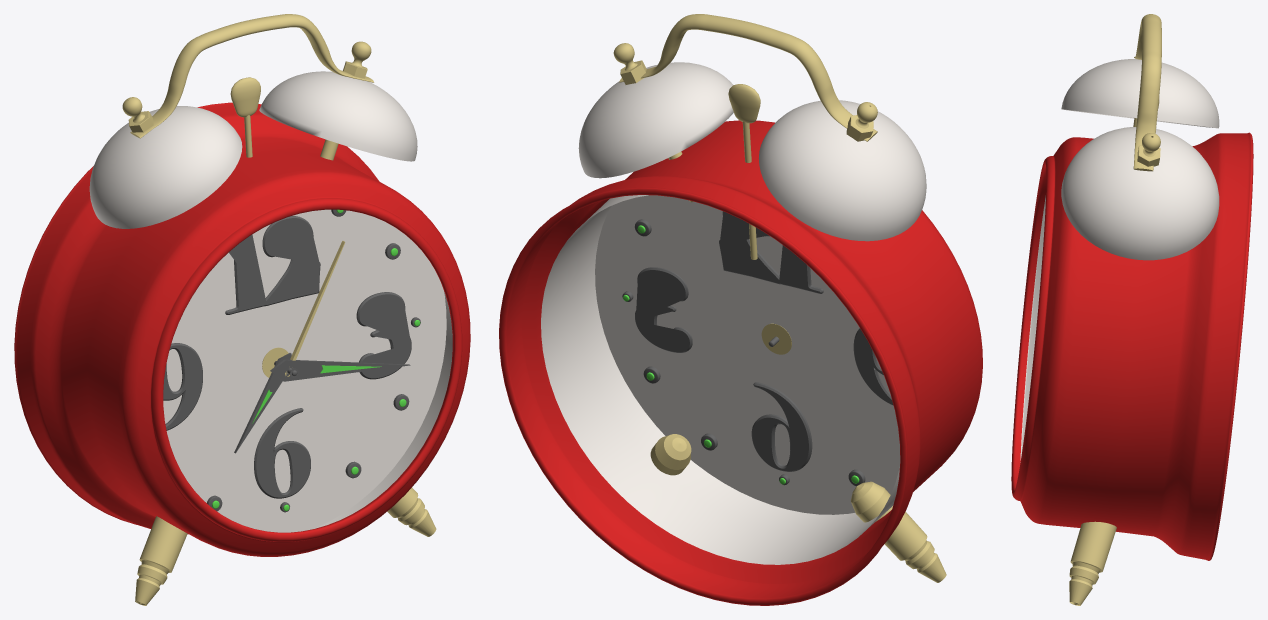
The model's file is AlarmClockUni.fbx.
3 views of the same model, side by side, from view 1: azimuth 30°, elevation 25°; view 2: azimuth 150°, elevation 25°; view 3: azimuth 270°, elevation 25° (orthographic). The views are drawn at different scales.
Parts seen in each view (by area): view 1: polySurface16; view 2: polySurface16; view 3: polySurface16.
Part boxes in pixels (x1,y1,x2,y2): polySurface16: (14, 14, 470, 605); polySurface16: (499, 14, 982, 605); polySurface16: (1011, 14, 1253, 605).
Size of the model in its own units: 271 by 352 by 152.
